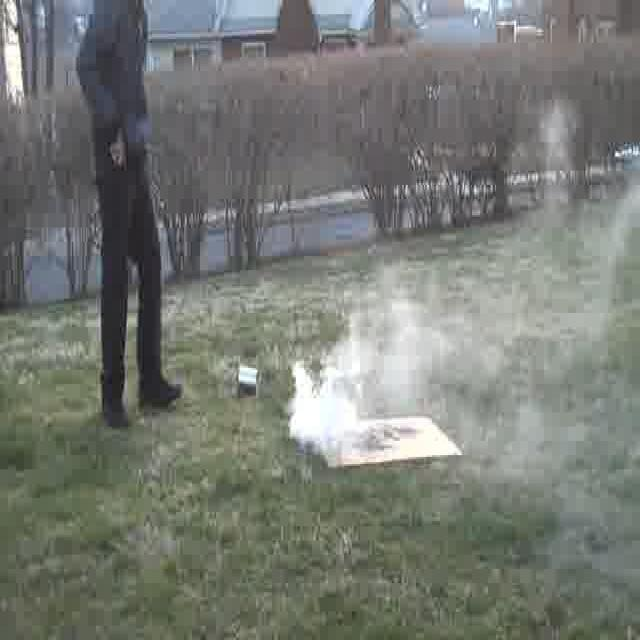Smoke: (288, 98, 640, 468)
